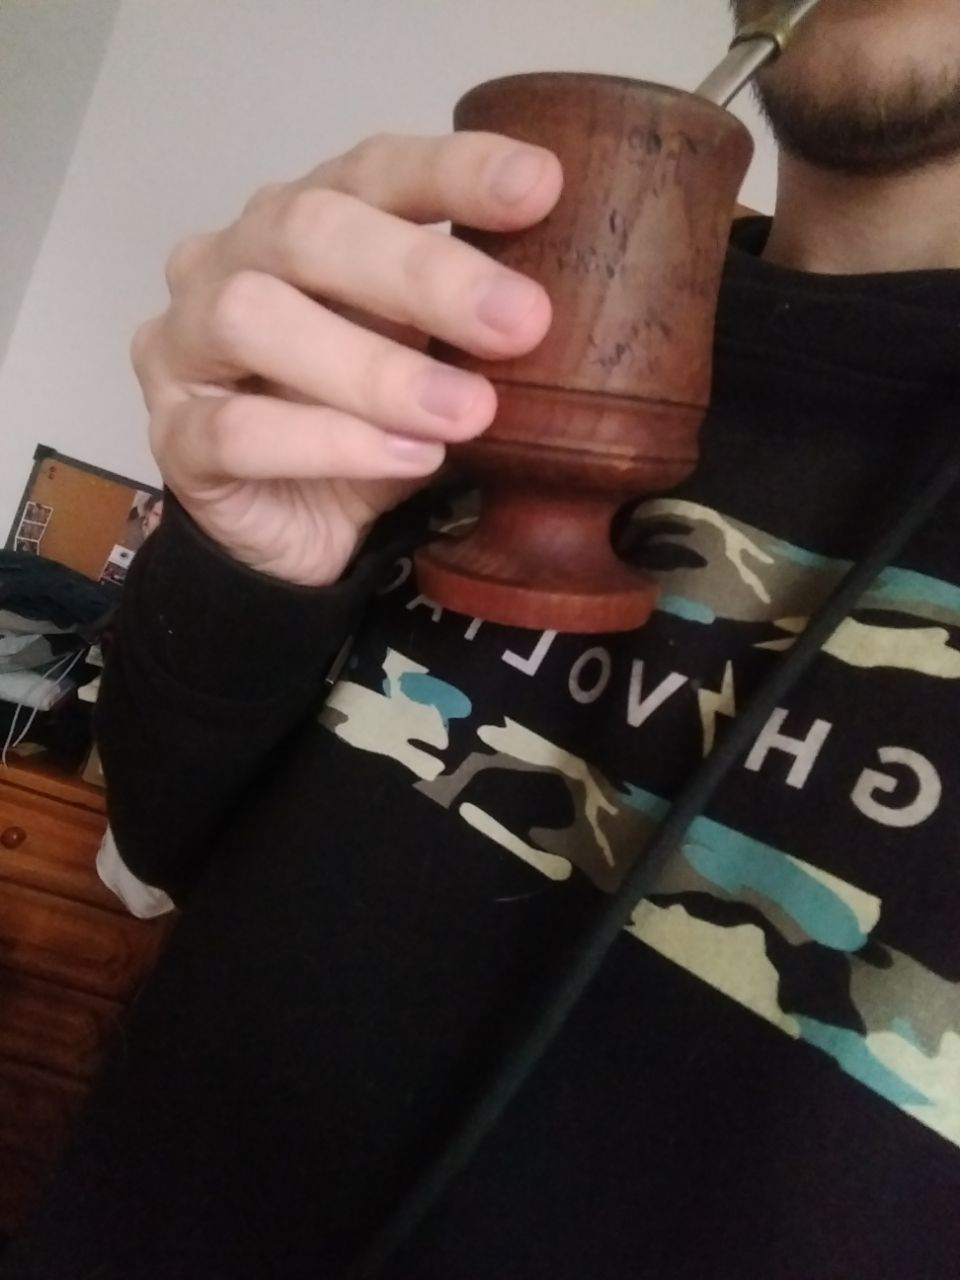madera: (406, 1, 832, 639)
mate: (408, 1, 834, 639)
